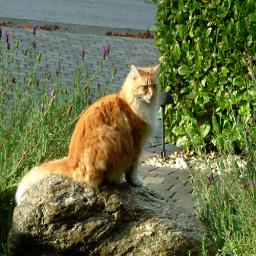catnose: (149, 91, 154, 99)
